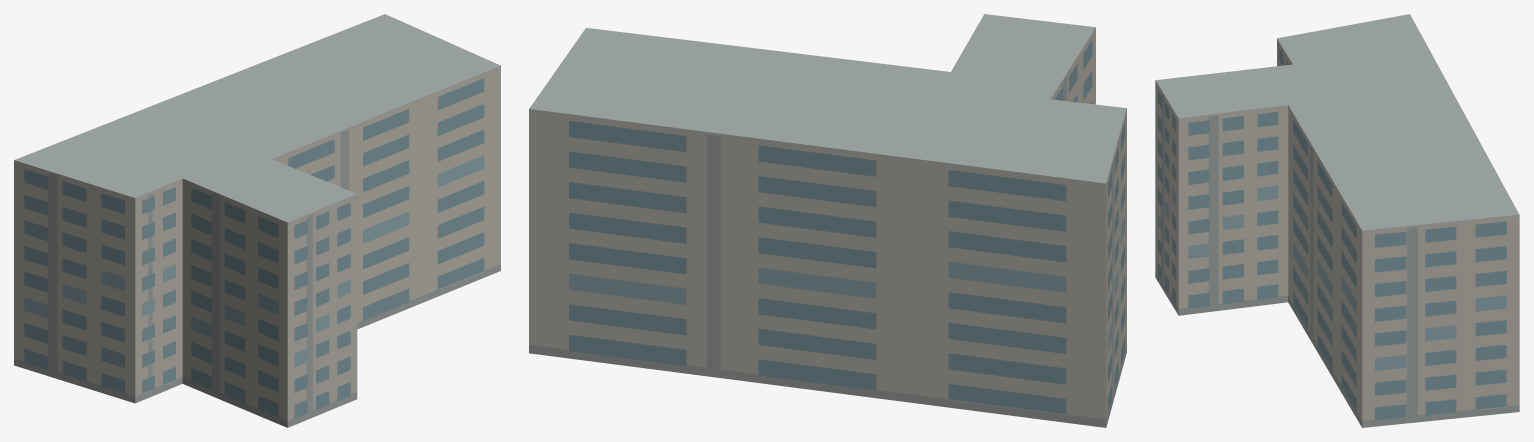
File: residential-2d75a08b-4bd9-459d-b28b-5c886093c686.glb
3 views of the same model, side by side, from view 1: azimuth 30°, elevation 25°; view 2: azimuth 150°, elevation 25°; view 3: azimuth 270°, elevation 25° (orthographic). The views are drawn at different scales.
Parts seen in each view (by area): view 1: residential-2d75a08b-4bd9-459d-b28b-5c886093c686.tmp; view 2: residential-2d75a08b-4bd9-459d-b28b-5c886093c686.tmp; view 3: residential-2d75a08b-4bd9-459d-b28b-5c886093c686.tmp.
Boxes of the visible parts, <box> form: residential-2d75a08b-4bd9-459d-b28b-5c886093c686.tmp: <box>14,14,500,427</box>; residential-2d75a08b-4bd9-459d-b28b-5c886093c686.tmp: <box>529,14,1126,427</box>; residential-2d75a08b-4bd9-459d-b28b-5c886093c686.tmp: <box>1155,14,1519,427</box>.
Bounding box in the file's own units: 54.15 × 23 × 38.46.
